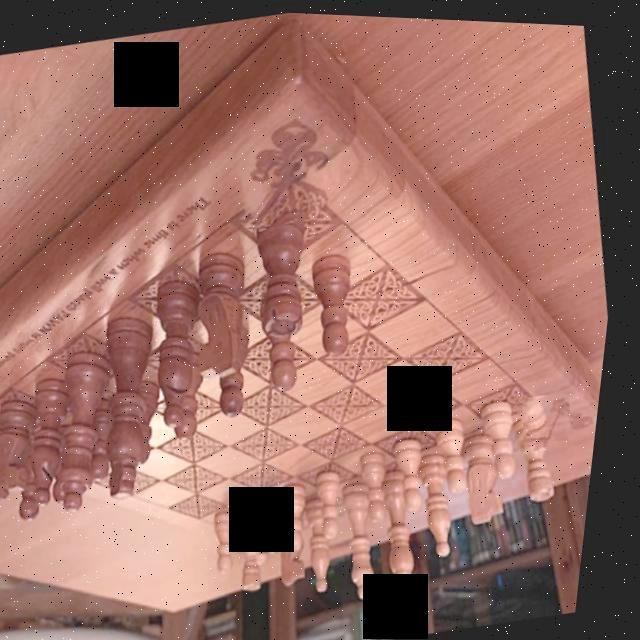chess-table-corners: (237, 136, 338, 230), (524, 384, 586, 446), (236, 508, 299, 562)
